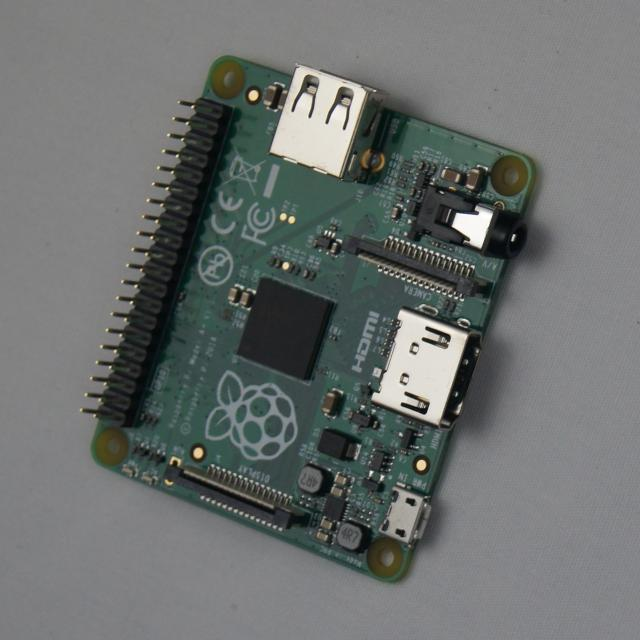Raspberry-Pi-1-A-: (83, 57, 537, 583)
